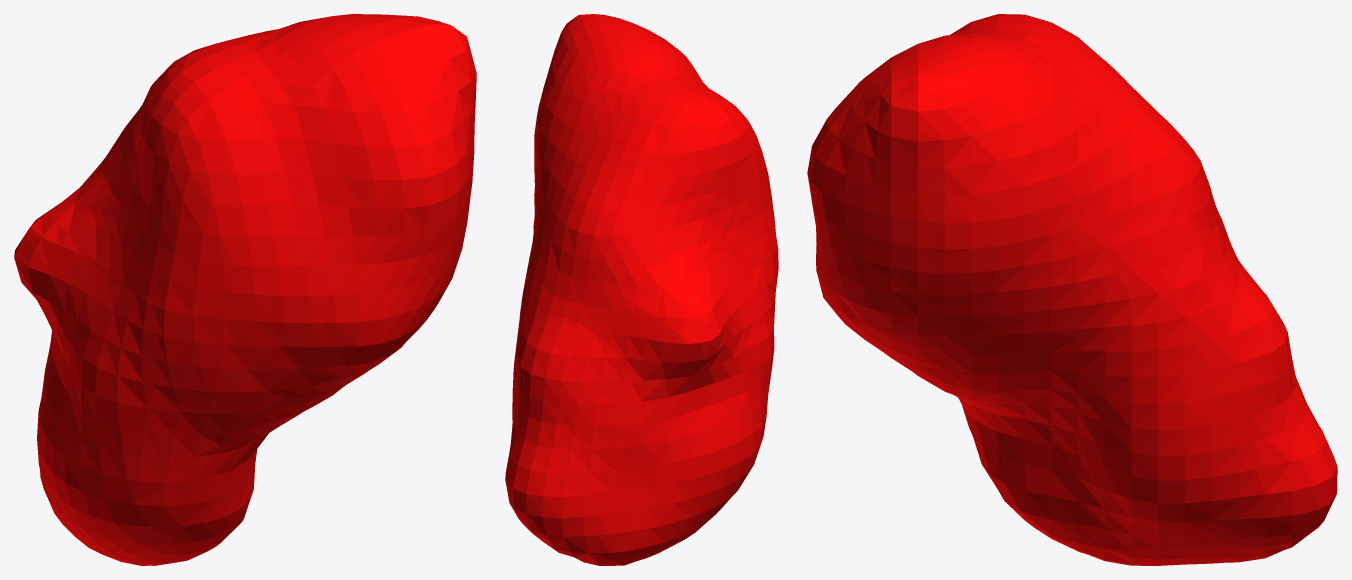
Rendered from rpmG_coarse.dae.
3 views of the same model, side by side, from view 1: azimuth 30°, elevation 25°; view 2: azimuth 150°, elevation 25°; view 3: azimuth 270°, elevation 25° (orthographic). The views are drawn at different scales.
Visible parts, largest first — view 1: rpmG; view 2: rpmG; view 3: rpmG.
Part boxes in pixels (x1,y1,x2,y2): rpmG: (14, 14, 476, 565); rpmG: (505, 14, 778, 565); rpmG: (807, 14, 1337, 565).
Size of the model in its own units: 23.31 by 38.25 by 31.94.
